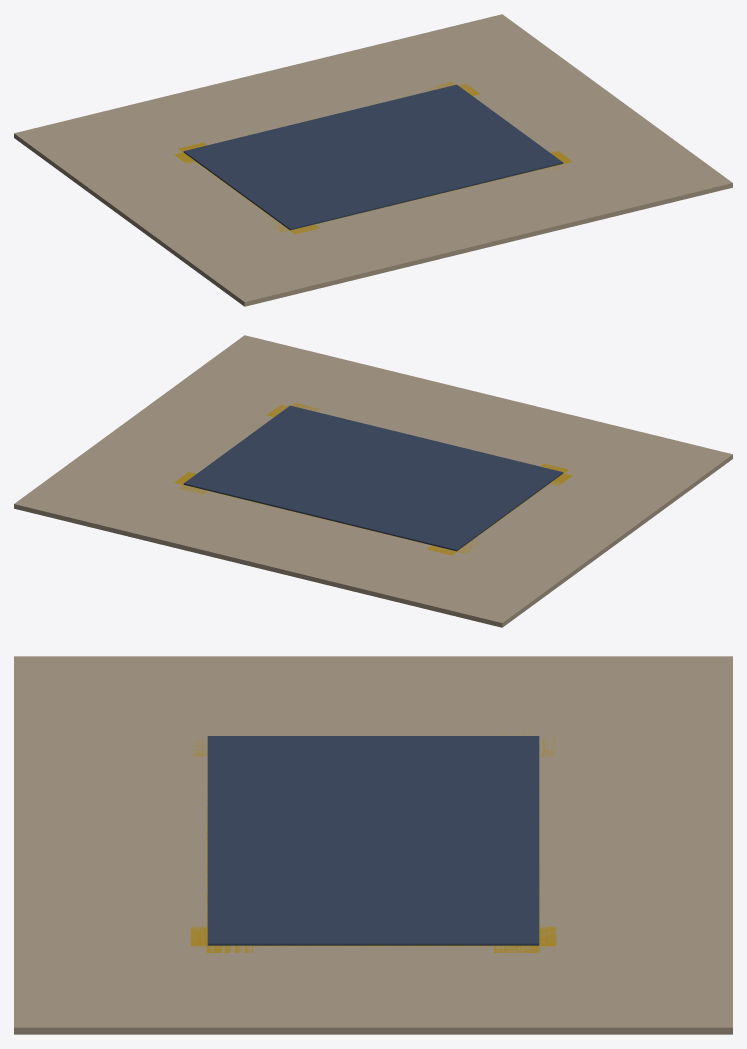
File: stage_01_excavation.glb
3 renders of one model, top to bottom at view 1: azimuth 30°, elevation 25°; view 2: azimuth 150°, elevation 25°; view 3: azimuth 270°, elevation 25°, orthographic. The views are drawn at different scales.
Visible parts, largest first — view 1: world; view 2: world; view 3: world.
Boxes of the visible parts, x1,y1,x2,y2 form: world: (14, 14, 732, 306); world: (14, 335, 732, 627); world: (14, 656, 732, 1034).
Size of the model in its own units: 11 by 0.83 by 9.
